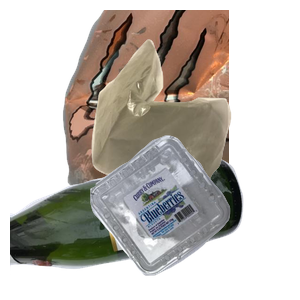glass: (10, 154, 246, 300)
metal: (60, 10, 300, 190)
plastic: (88, 133, 300, 300)
trash: (89, 37, 300, 213)
